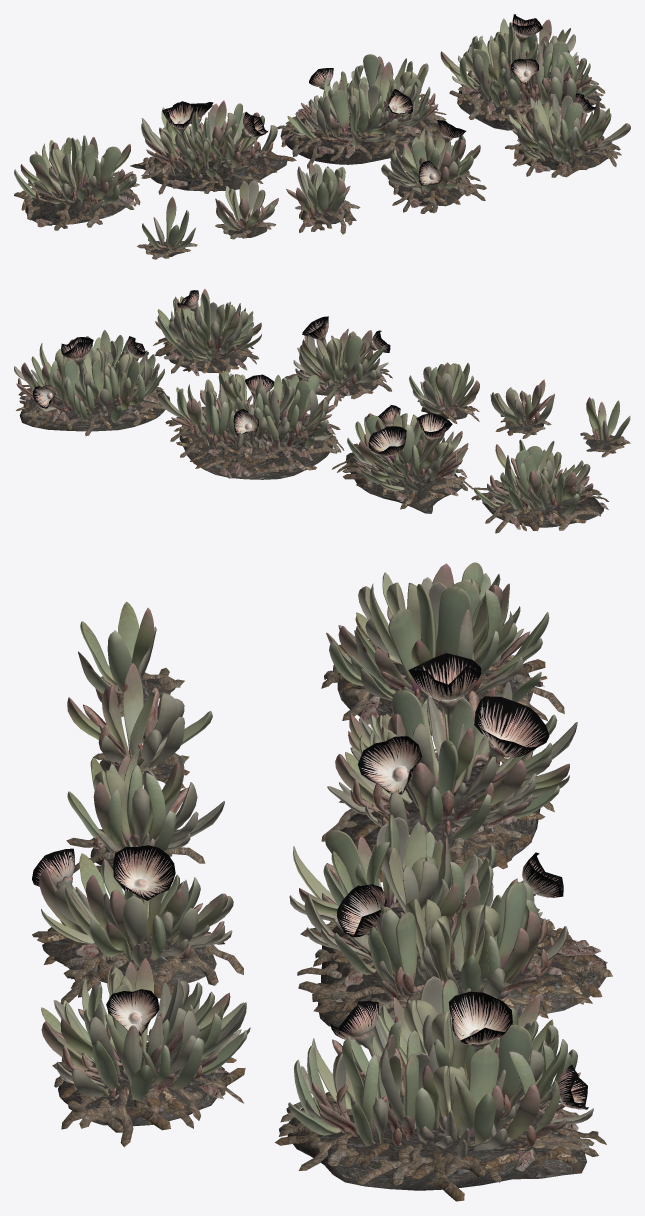
File: cheiridopsis_succulent.glb
3 renders of one model, top to bottom at view 1: azimuth 30°, elevation 25°; view 2: azimuth 150°, elevation 25°; view 3: azimuth 270°, elevation 25°, orthographic. The views are drawn at different scales.
Visible parts, largest first — view 1: cheiridopsis_succulent_a_LOD0, cheiridopsis_succulent_d_LOD0; view 2: cheiridopsis_succulent_a_LOD0, cheiridopsis_succulent_d_LOD0; view 3: cheiridopsis_succulent_a_LOD0, cheiridopsis_succulent_d_LOD0.
Boxes of the visible parts, x1=… form: cheiridopsis_succulent_a_LOD0: x1=14, y1=18, x2=630, y2=259; cheiridopsis_succulent_d_LOD0: x1=162, y1=14, x2=595, y2=185; cheiridopsis_succulent_a_LOD0: x1=14, y1=289, x2=630, y2=533; cheiridopsis_succulent_d_LOD0: x1=33, y1=290, x2=452, y2=456; cheiridopsis_succulent_a_LOD0: x1=32, y1=562, x2=612, y2=1201; cheiridopsis_succulent_d_LOD0: x1=32, y1=653, x2=588, y2=1109.
Bounding box in the file's own units: 2.16 × 0.2708 × 0.9586.
Materials: 2 (2 with a texture image).
